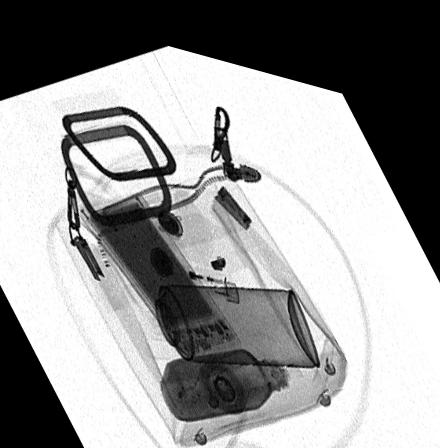Lighter: (159, 250, 240, 291)
Powerbank: (81, 184, 242, 349)
Sprayer: (119, 272, 320, 351)
